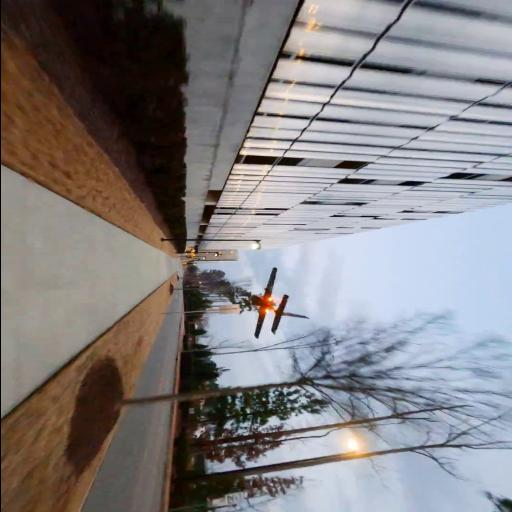uav: (242, 266, 310, 340)
